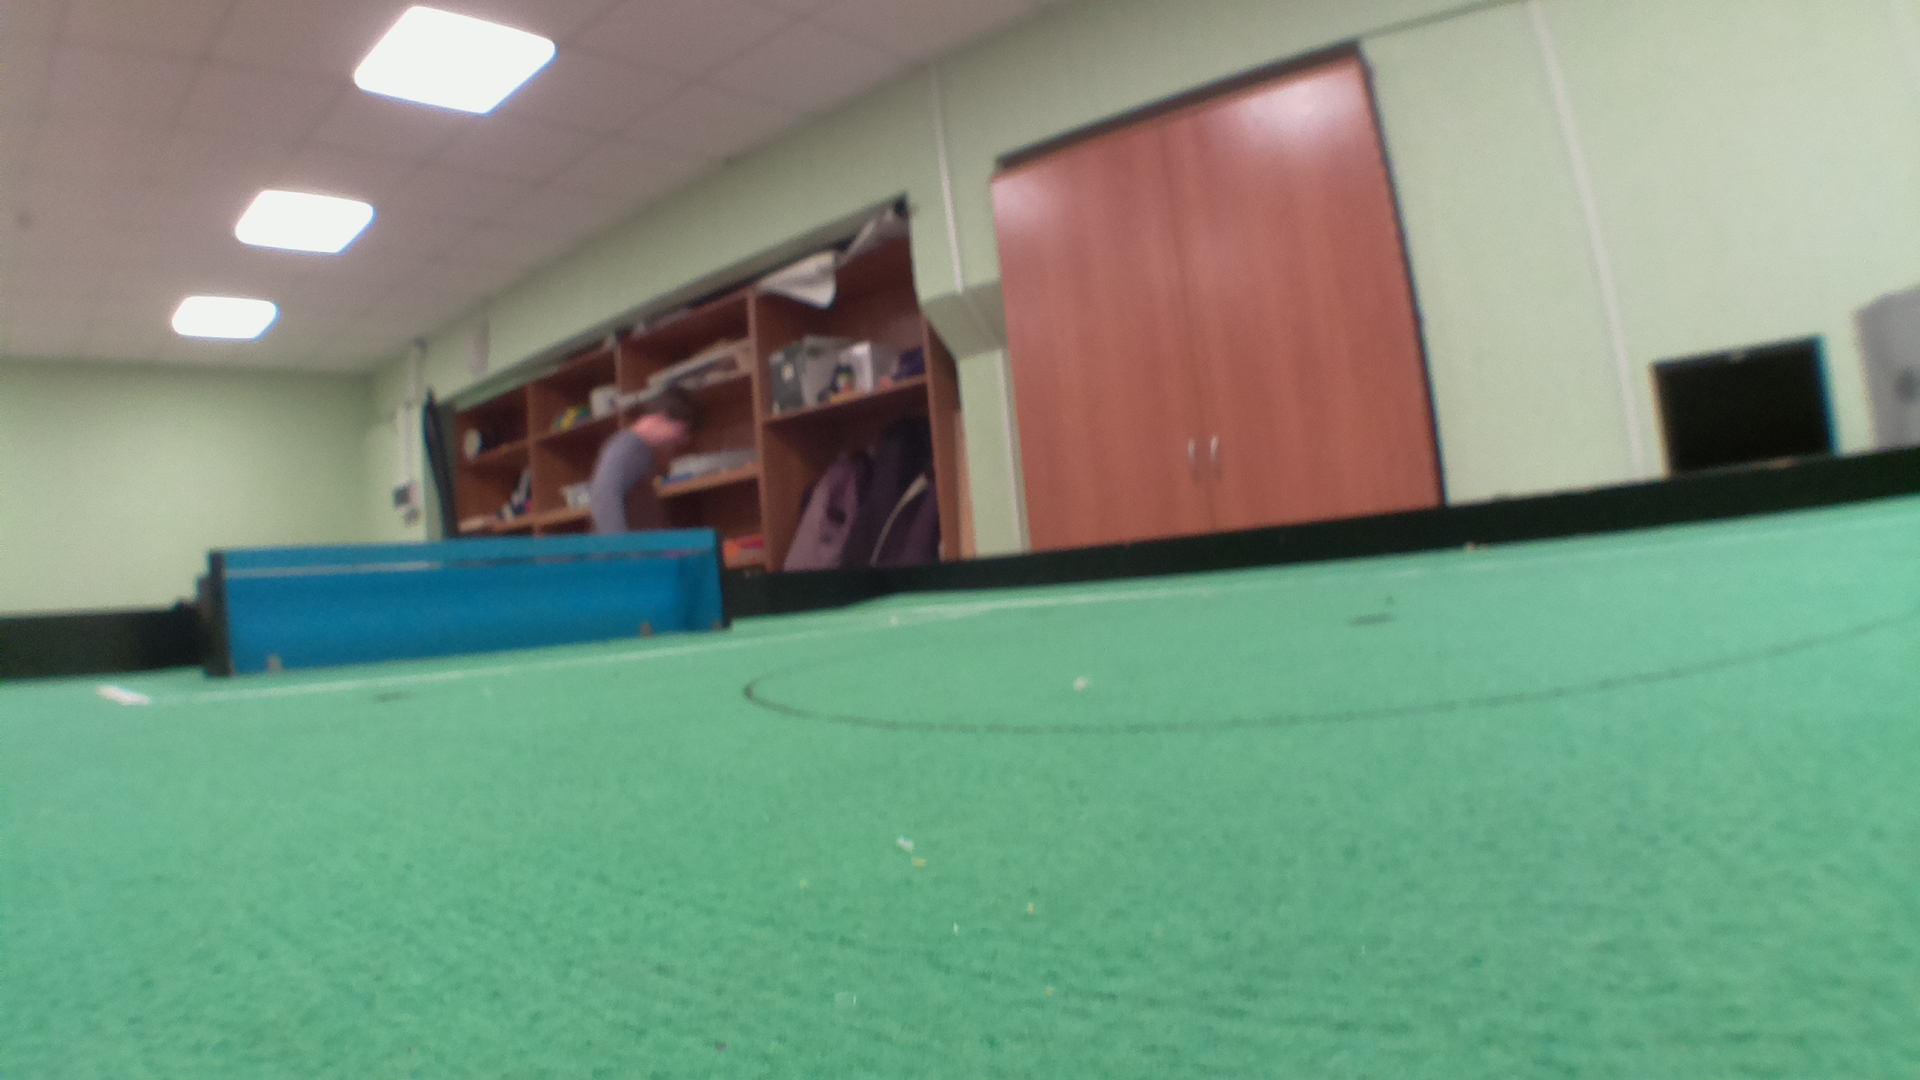BlueGoal: (222, 524, 713, 680)
